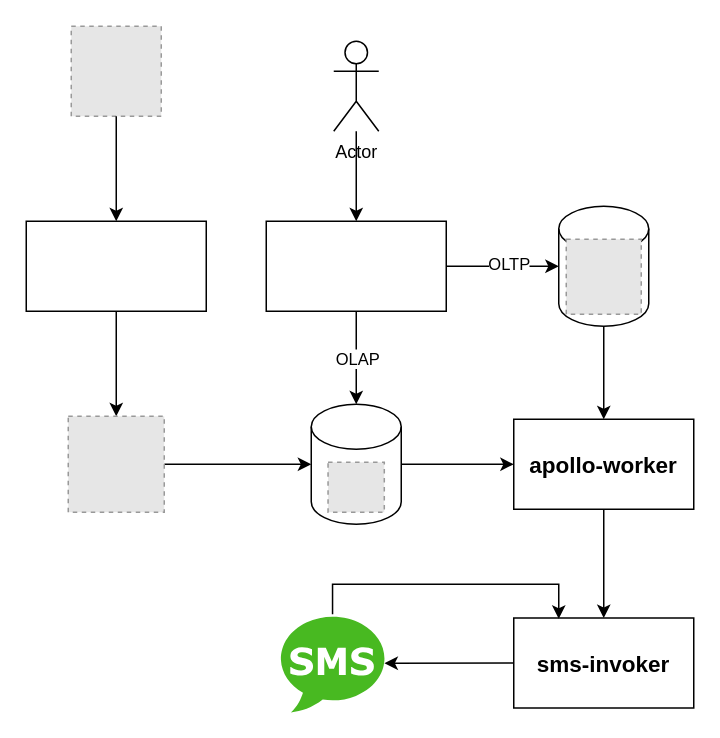
The diagram is 720 pixels wide and 738 high, and some of its shapes have lost their labels. Grey dashed boxes stand in for pictures. The centre of each missing label's shape, as x and y in pixels:
"api-syncer" belongs at point 115,265.
"web-portal" belongs at point 355,265.
